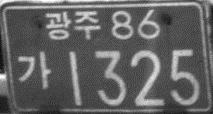1: (66, 48, 84, 107)
2: (130, 50, 165, 107)
3: (93, 48, 127, 107)
5: (169, 48, 201, 108)
6: (136, 8, 161, 41)
8: (111, 9, 134, 41)
가: (16, 50, 51, 88)
광주_O: (44, 8, 101, 42)
